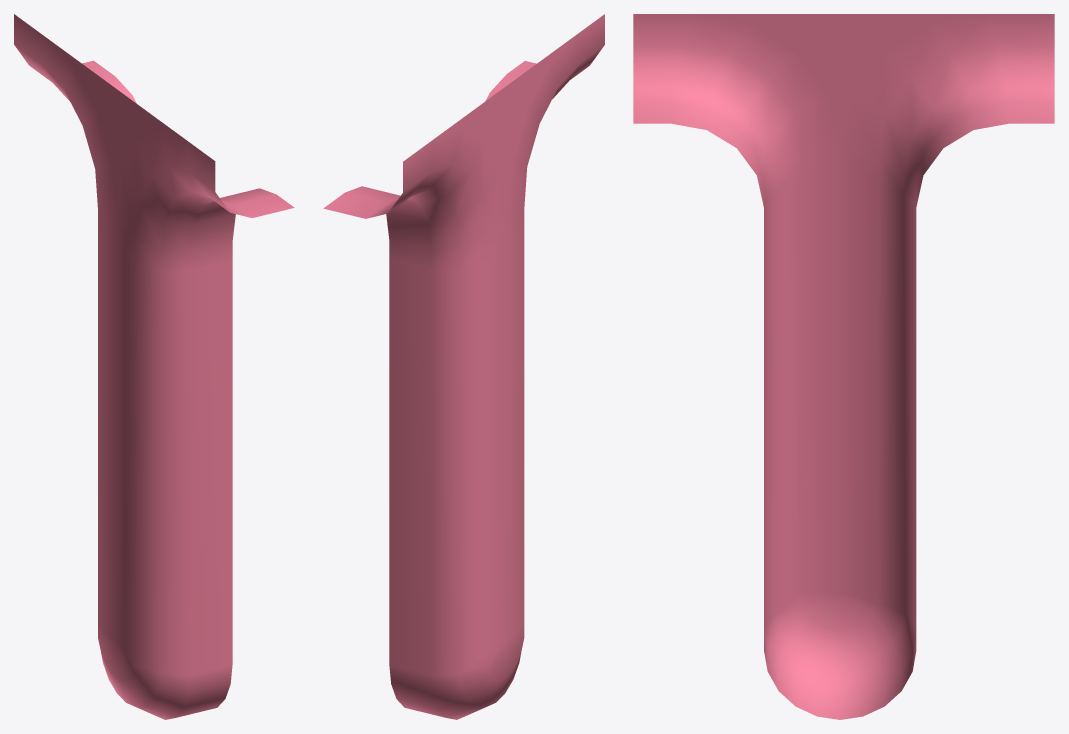
Rendered from SM_M_drop_8.fbx.
3 views of the same model, side by side, from view 1: azimuth 30°, elevation 25°; view 2: azimuth 150°, elevation 25°; view 3: azimuth 270°, elevation 25° (orthographic). The views are drawn at different scales.
Visible parts, largest first — view 1: SM_M_drop_8; view 2: SM_M_drop_8; view 3: SM_M_drop_8.
Part boxes in pixels (box(x1,y1,x2,y2)): SM_M_drop_8: box(14, 14, 294, 719); SM_M_drop_8: box(323, 14, 604, 719); SM_M_drop_8: box(633, 14, 1054, 719).
Bounding box in the file's own units: 164 × 1253 × 719.
1 material, 1 textured.
